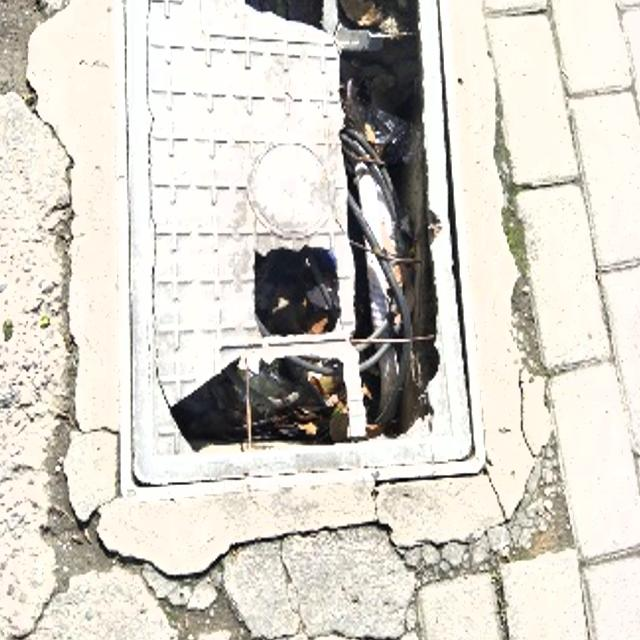broke: (113, 0, 486, 493)
